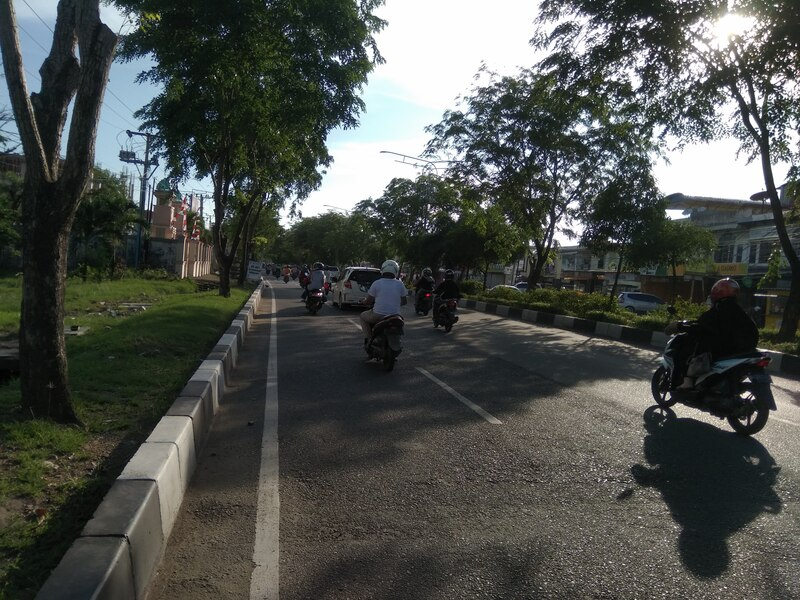car: (327, 265, 393, 313)
motorcycle: (649, 302, 780, 442), (358, 290, 417, 373), (431, 290, 464, 332), (302, 275, 333, 314)
